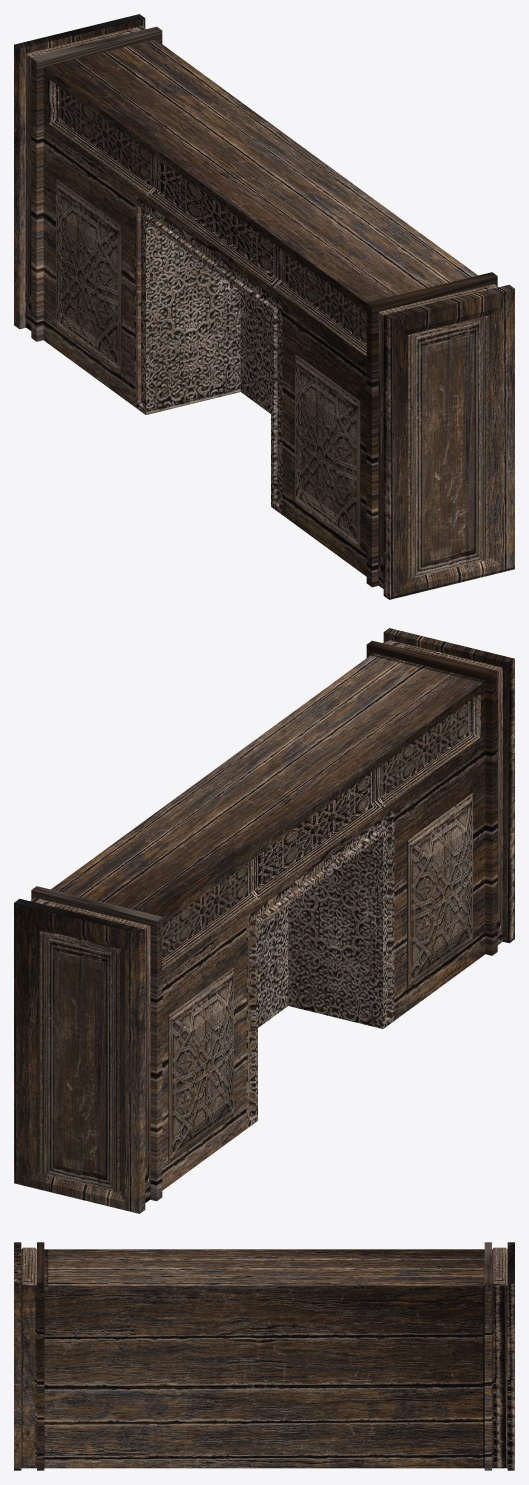
3 views of the same model, one above another, from view 1: azimuth 30°, elevation 25°; view 2: azimuth 150°, elevation 25°; view 3: azimuth 270°, elevation 25° (orthographic). The views are drawn at different scales.
Parts seen in each view (by area): view 1: 화로; view 2: 화로; view 3: 화로.
Part boxes in pixels (bbox=[...]): 화로: bbox=[14, 14, 514, 599]; 화로: bbox=[14, 628, 514, 1213]; 화로: bbox=[14, 1242, 514, 1470].
Bounding box in the file's own units: 37.32 × 78.88 × 191.
